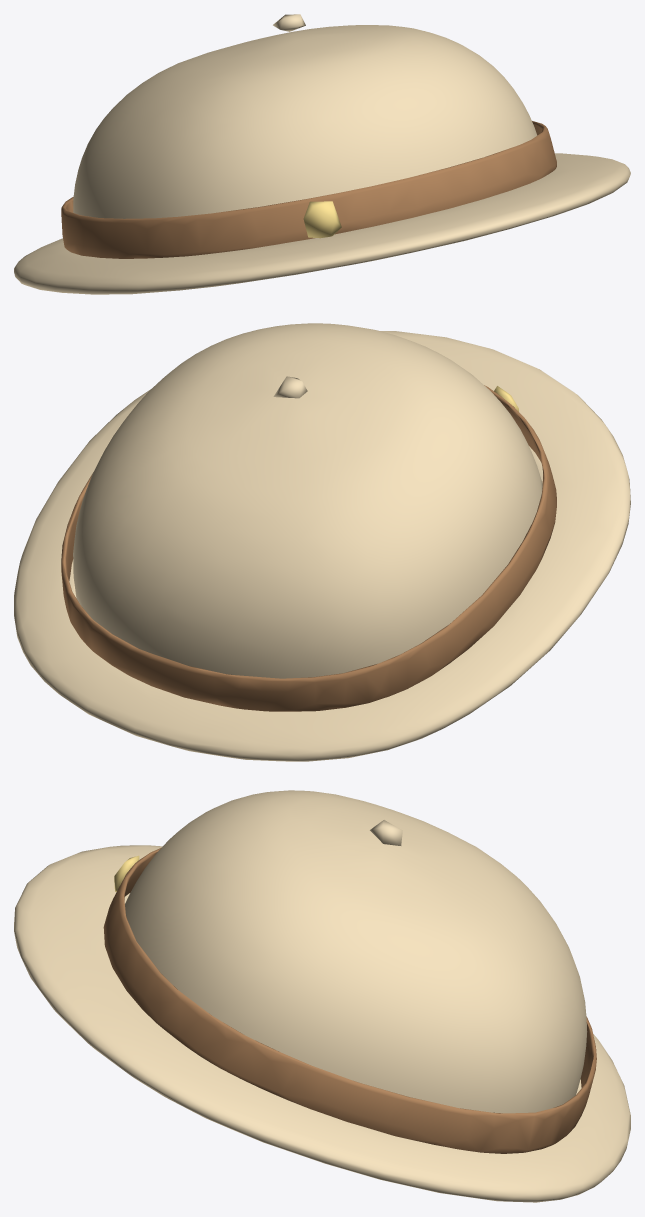
File: cap.glb
3 renders of one model, top to bottom at view 1: azimuth 30°, elevation 25°; view 2: azimuth 150°, elevation 25°; view 3: azimuth 270°, elevation 25°, orthographic. The views are drawn at different scales.
Parts seen in each view (by area): view 1: Accessory_cap; view 2: Accessory_cap; view 3: Accessory_cap.
Part boxes in pixels (x1,y1,x2,y2): Accessory_cap: (14, 14, 630, 294); Accessory_cap: (14, 323, 630, 761); Accessory_cap: (14, 790, 630, 1202).
Size of the model in its own units: 1.64 by 0.8564 by 1.57.
